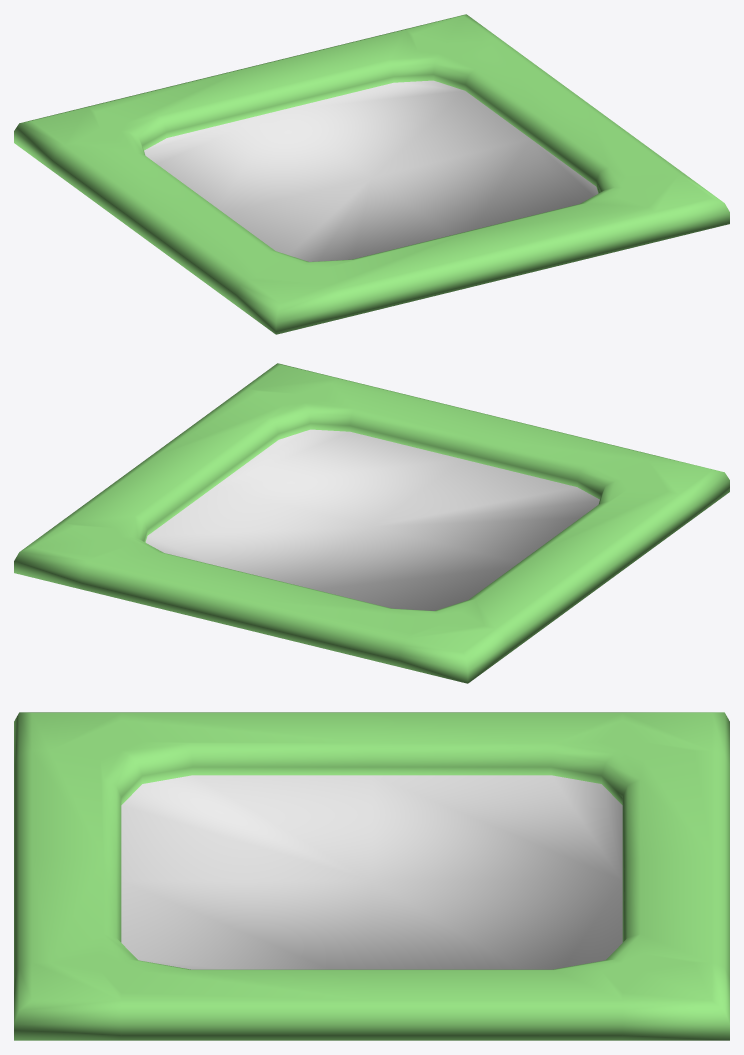
3 renders of one model, top to bottom at view 1: azimuth 30°, elevation 25°; view 2: azimuth 150°, elevation 25°; view 3: azimuth 270°, elevation 25°, orthographic. The views are drawn at different scales.
Visible parts, largest first — view 1: 立方体.001; view 2: 立方体.001; view 3: 立方体.001.
Part boxes in pixels (x1,y1,x2,y2): 立方体.001: (14,14,729,334); 立方体.001: (14,363,729,683); 立方体.001: (14,712,729,1040).
Size of the model in its own units: 200 by 10 by 200.
